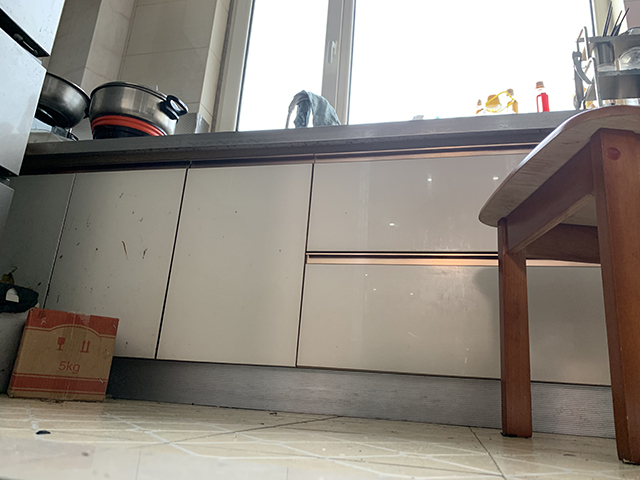cabinet: (1, 107, 620, 439)
stool: (475, 104, 640, 469)
